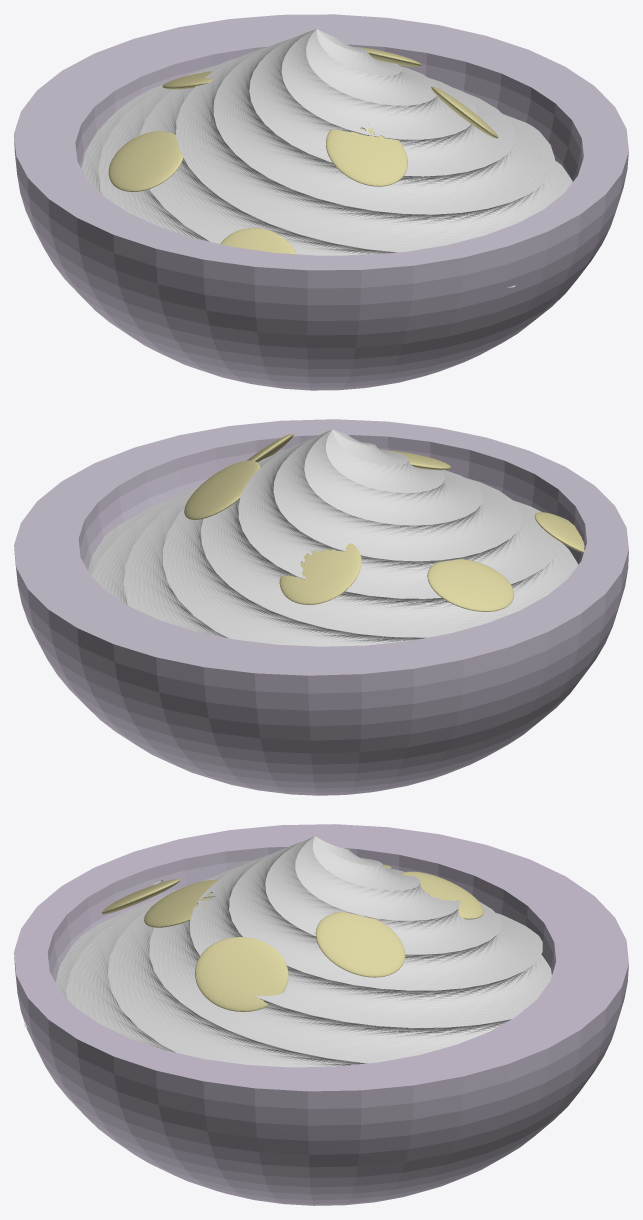
The model's file is Evie B - Yogurt Parfait.glb.
The picture shows the model from 3 angles, top to bottom: view 1: azimuth 30°, elevation 25°; view 2: azimuth 150°, elevation 25°; view 3: azimuth 270°, elevation 25°; orthographic projection.
Visible parts, largest first — view 1: Mesh_Mesh_head_geo.001_lambert2SG.001; view 2: Mesh_Mesh_head_geo.001_lambert2SG.001; view 3: Mesh_Mesh_head_geo.001_lambert2SG.001.
Part boxes in pixels (left/top/right/bottom): Mesh_Mesh_head_geo.001_lambert2SG.001: left=14, top=14, right=628, bottom=390; Mesh_Mesh_head_geo.001_lambert2SG.001: left=14, top=419, right=628, bottom=795; Mesh_Mesh_head_geo.001_lambert2SG.001: left=14, top=824, right=628, bottom=1205.
Bounding box in the file's own units: 0.072 × 0.0425 × 0.072.
